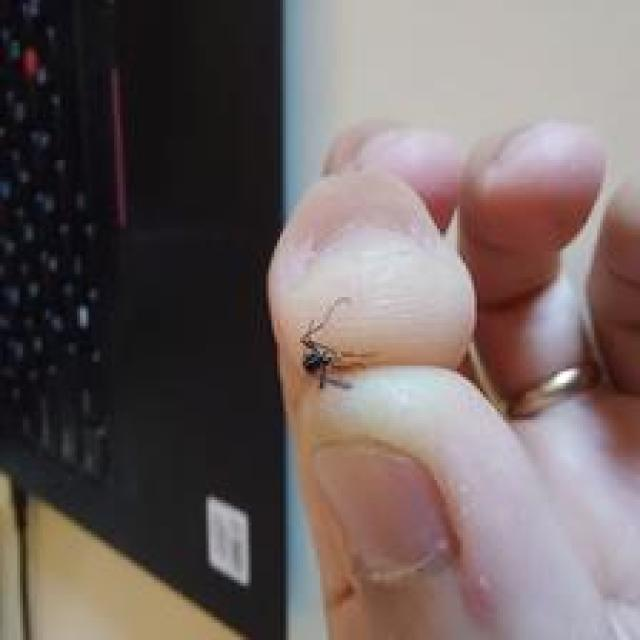Aedes albopictus: (297, 294, 369, 392)
